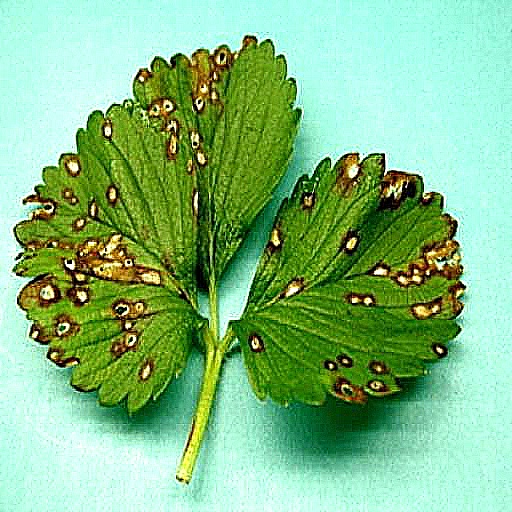Leaf Spot: (300, 93, 501, 415), (45, 100, 286, 361), (206, 225, 380, 477)
